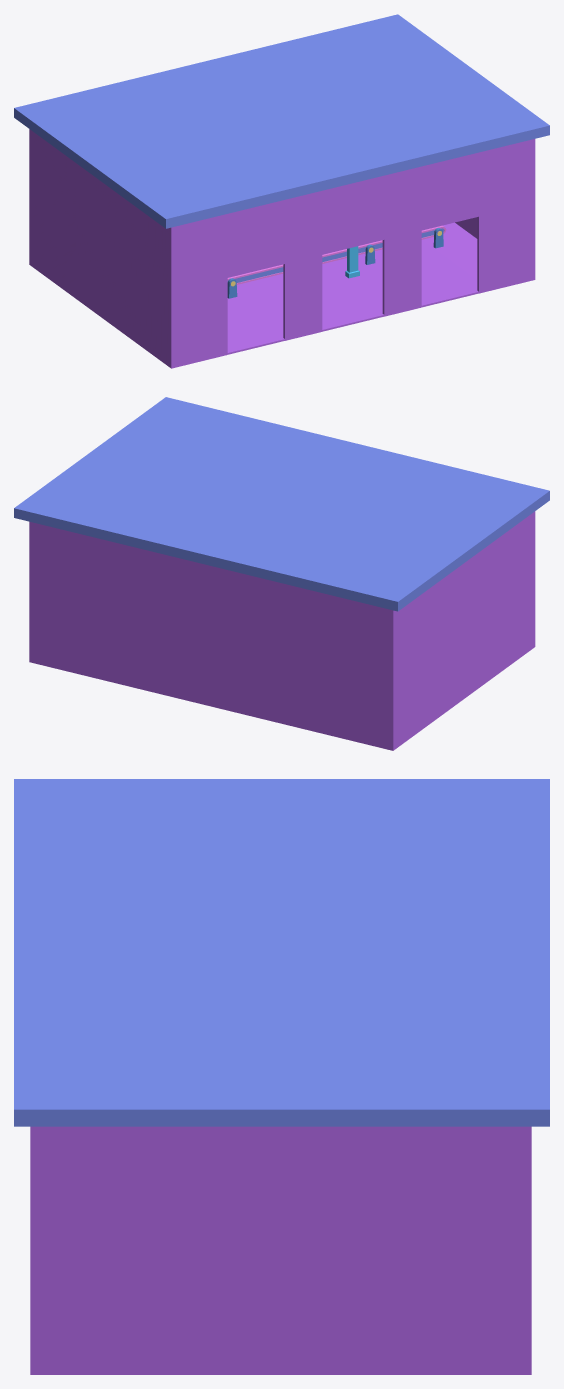
File: factory-complete.fbx
The picture shows the model from 3 angles, top to bottom: view 1: azimuth 30°, elevation 25°; view 2: azimuth 150°, elevation 25°; view 3: azimuth 270°, elevation 25°; orthographic projection. The views are drawn at different scales.
Parts seen in each view (by area): view 1: Cube, Cube.002, Cube.053; view 2: Cube, Cube.002; view 3: Cube.002, Cube.
Part boxes in pixels (x1,y1,x2,y2): Cube: [29, 129, 535, 368]; Cube.002: [14, 14, 549, 228]; Cube.053: [227, 225, 446, 284]; Cube: [29, 511, 535, 750]; Cube.002: [14, 397, 549, 611]; Cube.002: [14, 779, 549, 1126]; Cube: [30, 1126, 531, 1374].
Bounding box in the file's own units: 5557 × 2152 × 3808.
